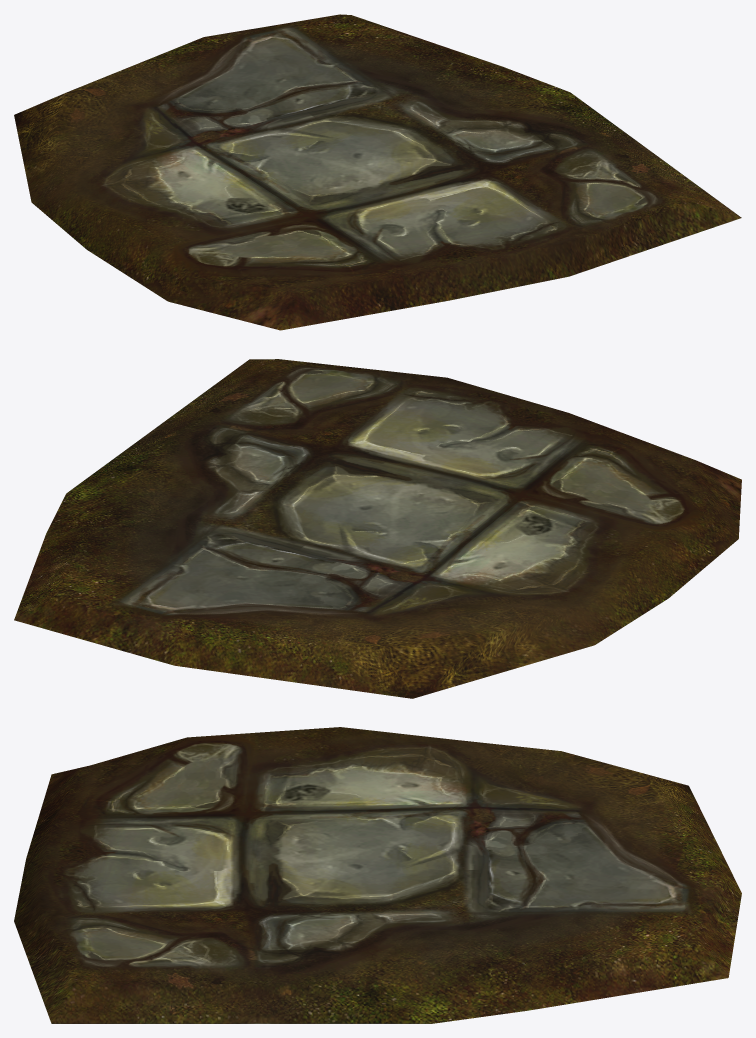
The model's file is C_dizhuan004.fbx.
3 views of the same model, one above another, from view 1: azimuth 30°, elevation 25°; view 2: azimuth 150°, elevation 25°; view 3: azimuth 270°, elevation 25° (orthographic). The views are drawn at different scales.
Parts seen in each view (by area): view 1: C_dizhuan004; view 2: C_dizhuan004; view 3: C_dizhuan004.
Part boxes in pixels (x1,y1,x2,y2): C_dizhuan004: (14,14,741,330); C_dizhuan004: (14,359,741,698); C_dizhuan004: (14,727,741,1023).
Bounding box in the file's own units: 478 × 22.93 × 519.
